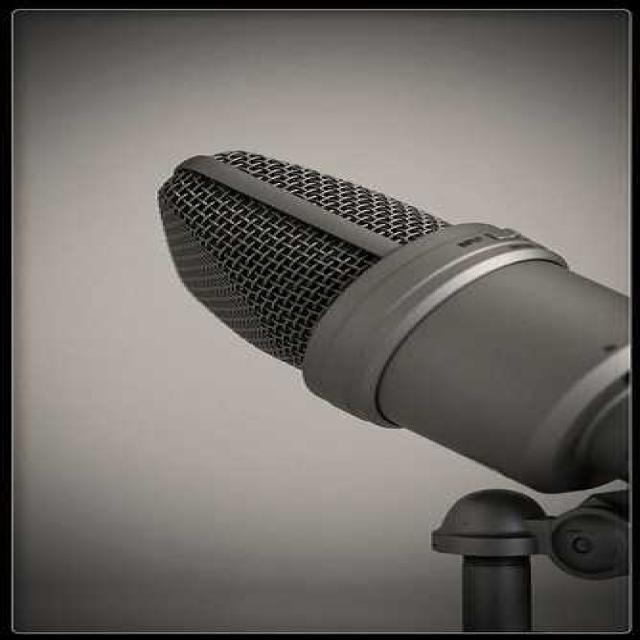microphone: (139, 133, 640, 468)
